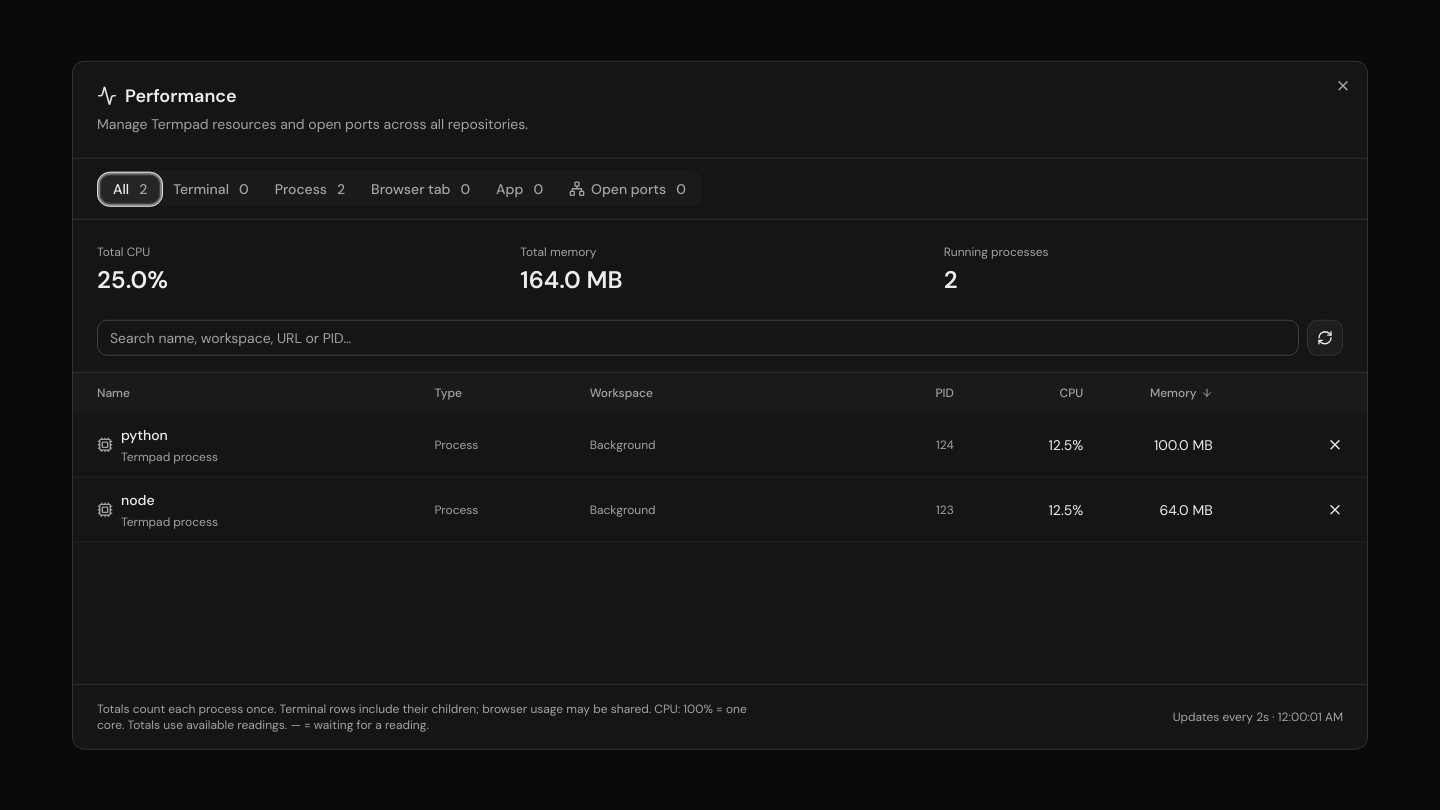
Performance view › requires confirmation and surfaces failed stop requests
This screenshot has width=1440, height=810.
Click the button named "Close node" at point(1335, 510), box x1=1319 y1=494 x2=1351 y2=526
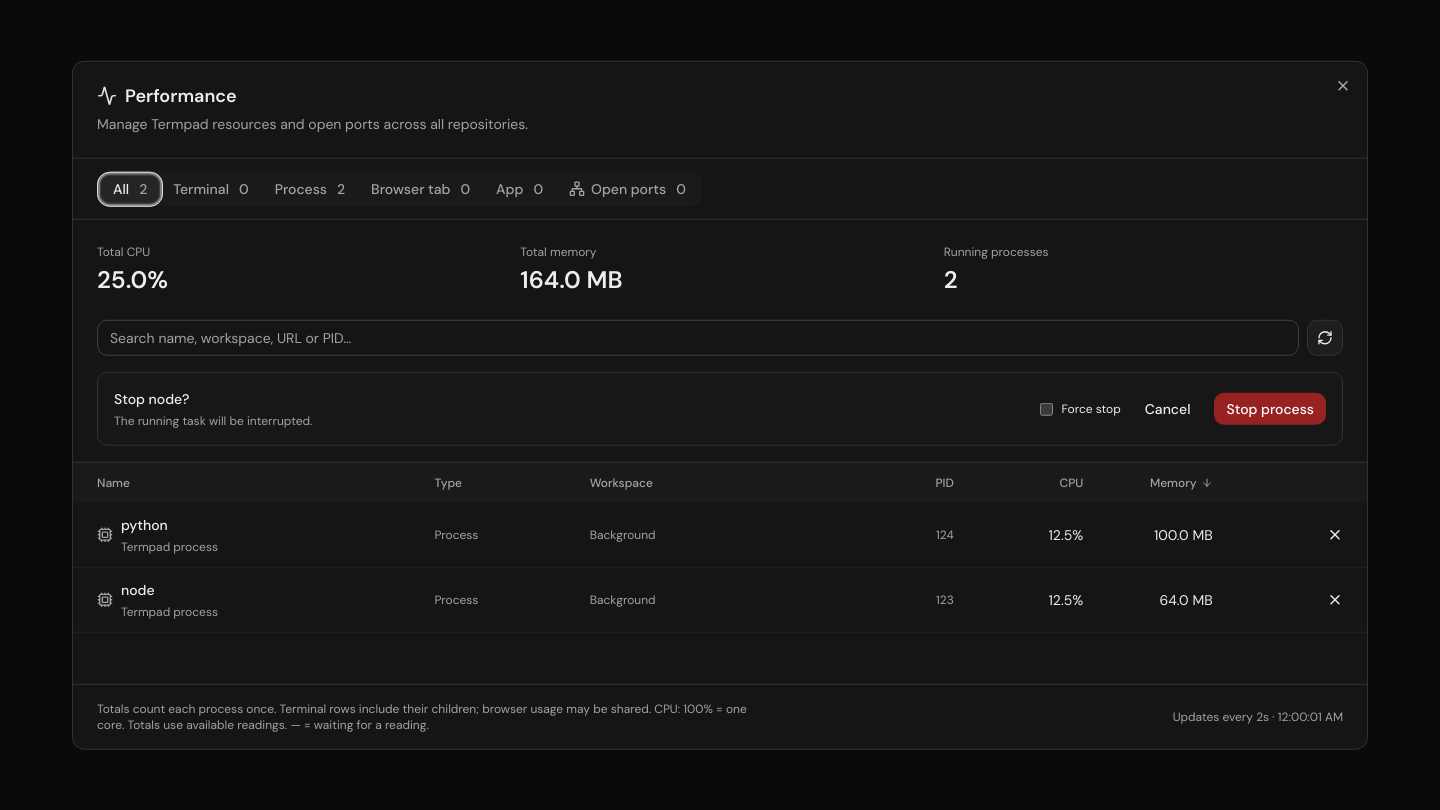
Click the checkbox labelled "Force stop" at point(1047, 409), box x1=1040 y1=402 x2=1053 y2=415
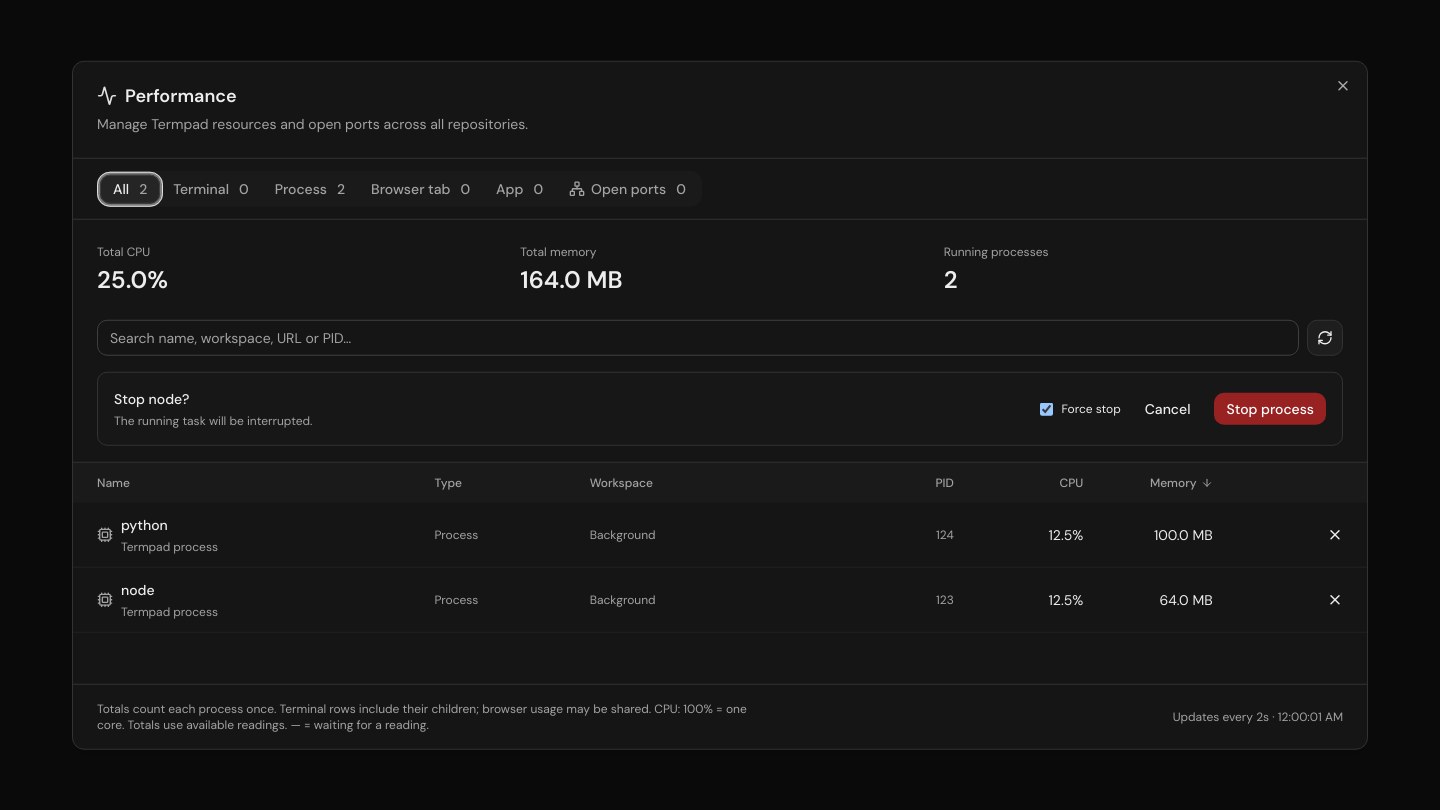
Click the button "Stop process" at point(1270, 409), box x1=1214 y1=393 x2=1326 y2=425
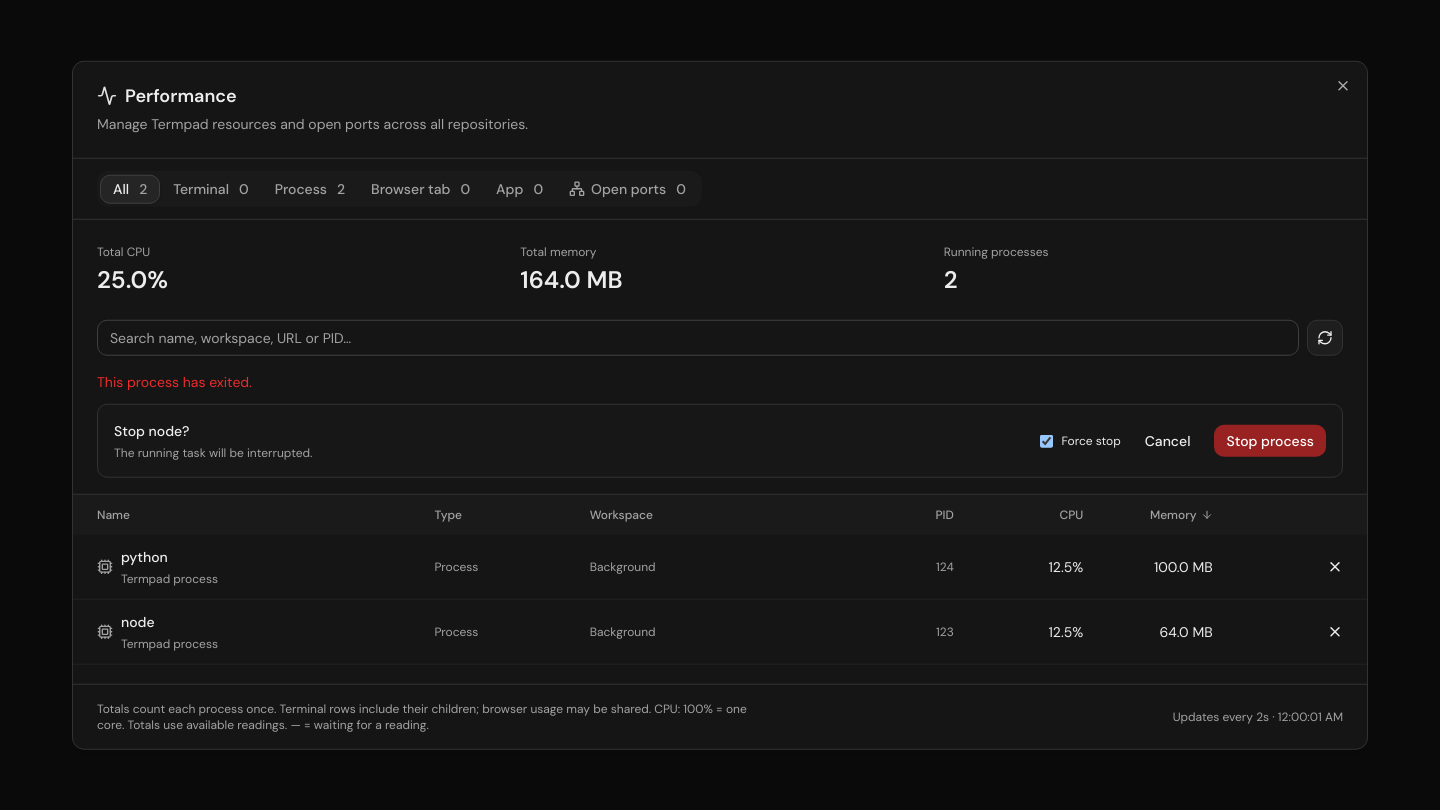
Expected: the element named "Confirm close" is shown, x1=97 y1=404 x2=1343 y2=478
Expected: the message reads "This process has exited.", x1=97 y1=373 x2=252 y2=391
